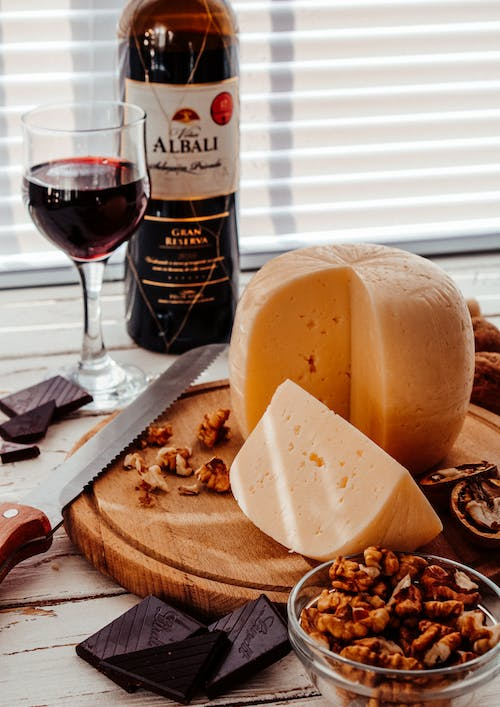alcohol: (110, 0, 249, 358), (19, 97, 160, 414)
knife: (0, 339, 231, 587)
